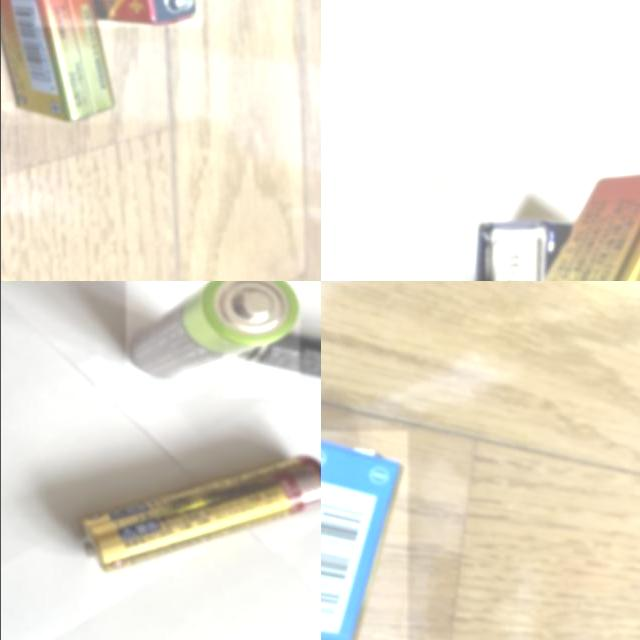9V: (320, 431, 407, 640), (492, 170, 640, 281), (0, 0, 114, 123), (473, 217, 574, 281), (34, 0, 201, 27)
